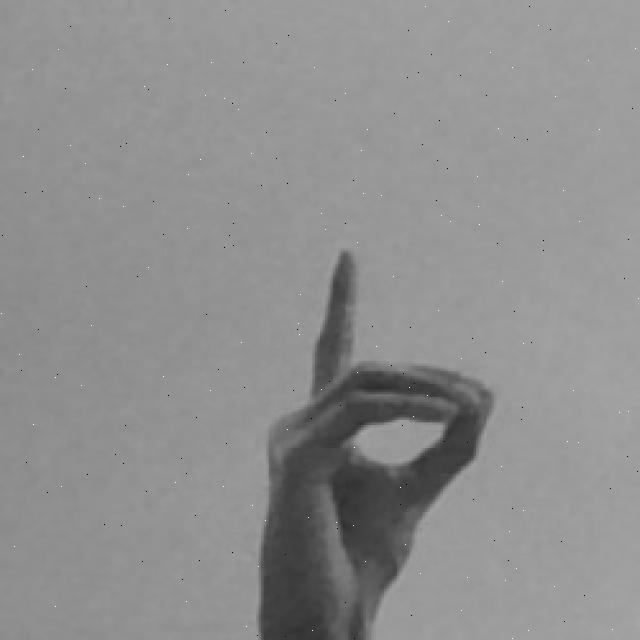D: (258, 246, 496, 640)
